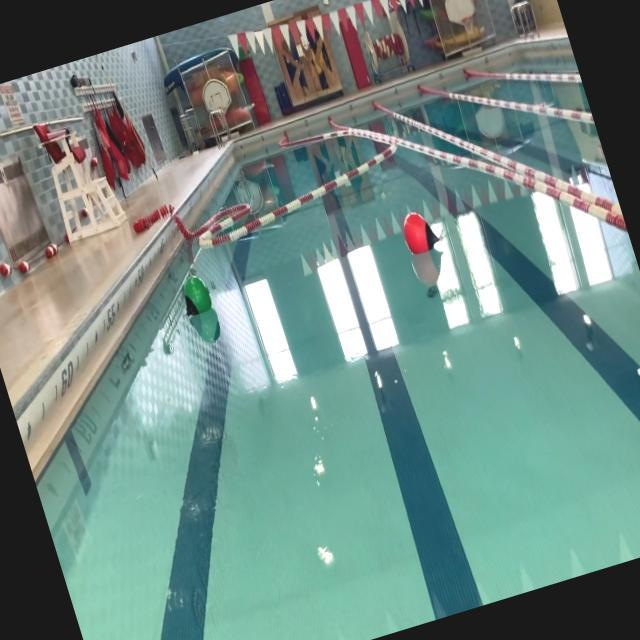buoy: (398, 202, 446, 260), (175, 266, 217, 318)
